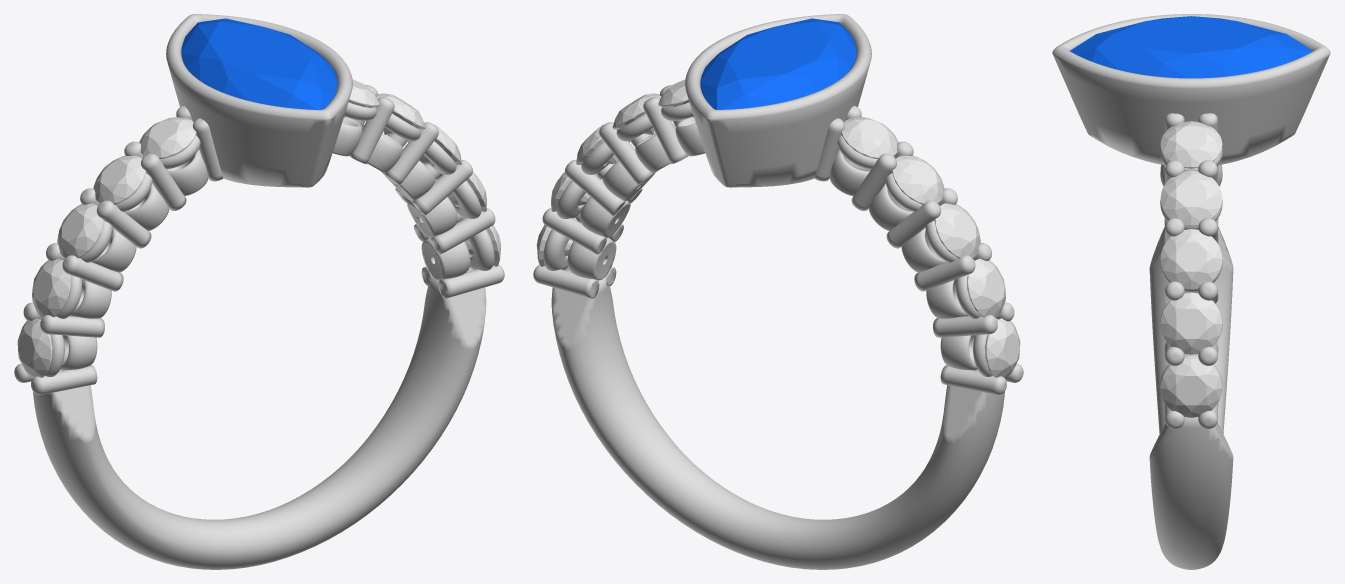
Rendered from bluesapphire-marquise-platinum-bezelset-taperedband-7stone.glb.
The picture shows the model from 3 angles, left to right: view 1: azimuth 30°, elevation 25°; view 2: azimuth 150°, elevation 25°; view 3: azimuth 270°, elevation 25°; orthographic projection.
Parts seen in each view (by area): view 1: metal.002, stone.002, side.022, side.023, side.021, side.024, side.020, side.028; view 2: metal.002, stone.002, side.022, side.023, side.021, side.024, side.020, side.028; view 3: metal.002, stone.002, side.026, side.027, side.025, side.028, side.029.
Boxes of the visible parts, <box> form: metal.002: <box>14,14,504,569</box>; stone.002: <box>181,18,337,109</box>; side.022: <box>57,203,103,258</box>; side.023: <box>93,155,145,204</box>; side.021: <box>32,258,70,317</box>; side.024: <box>139,117,196,158</box>; side.020: <box>17,318,52,378</box>; side.028: <box>376,93,425,134</box>; metal.002: <box>533,14,1023,569</box>; stone.002: <box>700,18,856,109</box>; side.022: <box>934,203,980,258</box>; side.023: <box>892,155,944,204</box>; side.021: <box>967,258,1005,317</box>; side.024: <box>841,117,898,158</box>; side.020: <box>985,318,1020,378</box>; side.028: <box>612,93,661,134</box>; metal.002: <box>1052,14,1330,569</box>; stone.002: <box>1070,16,1312,78</box>; side.026: <box>1160,293,1222,354</box>; side.027: <box>1160,229,1222,289</box>; side.025: <box>1160,358,1222,417</box>; side.028: <box>1160,170,1222,226</box>; side.029: <box>1160,121,1222,168</box>.
Bounding box in the file's own units: 22.1 × 22.93 × 11.31.
